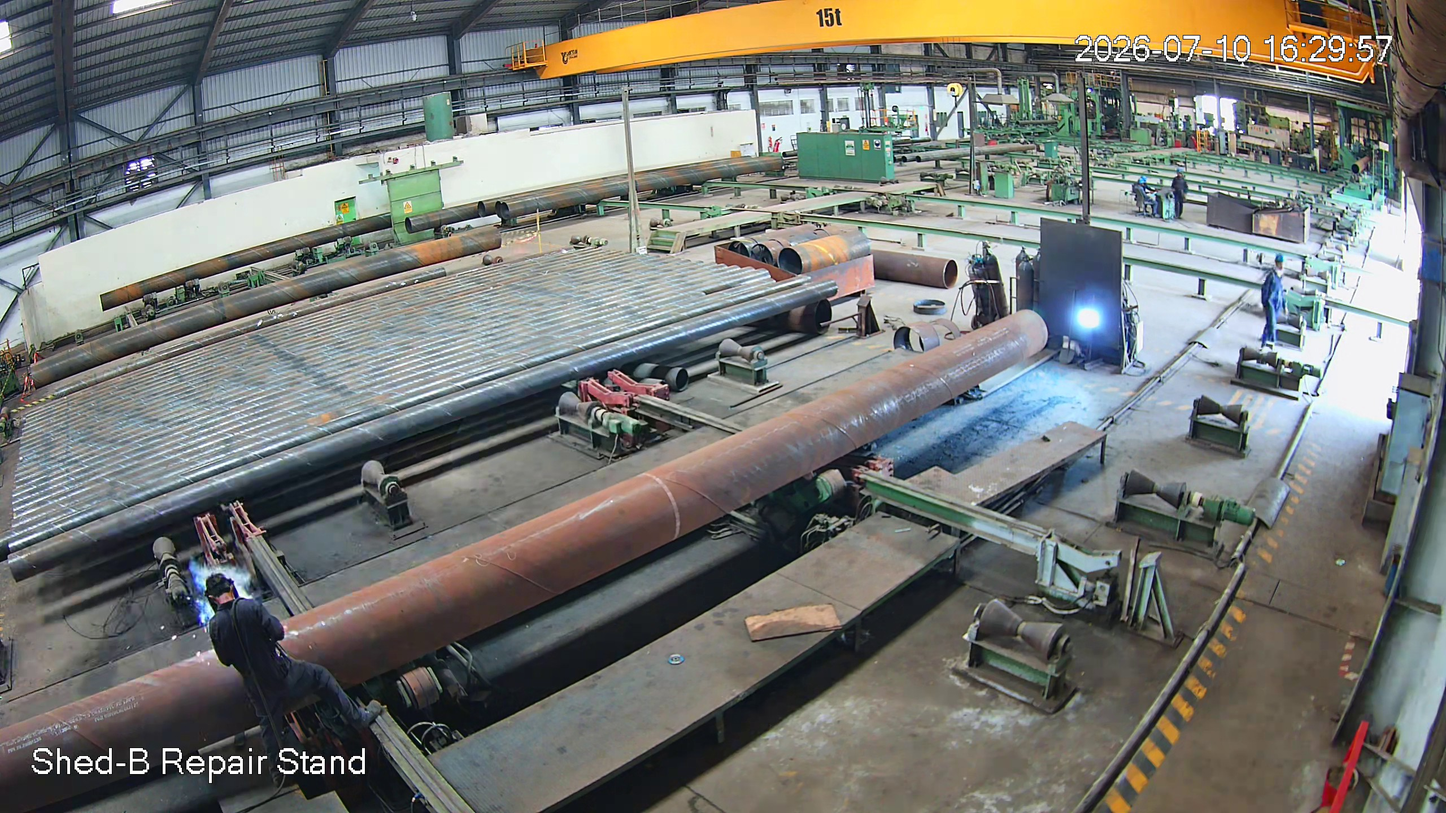Helmet: (1270, 246, 1294, 272)
Person: (191, 564, 400, 803), (1264, 251, 1295, 347)
